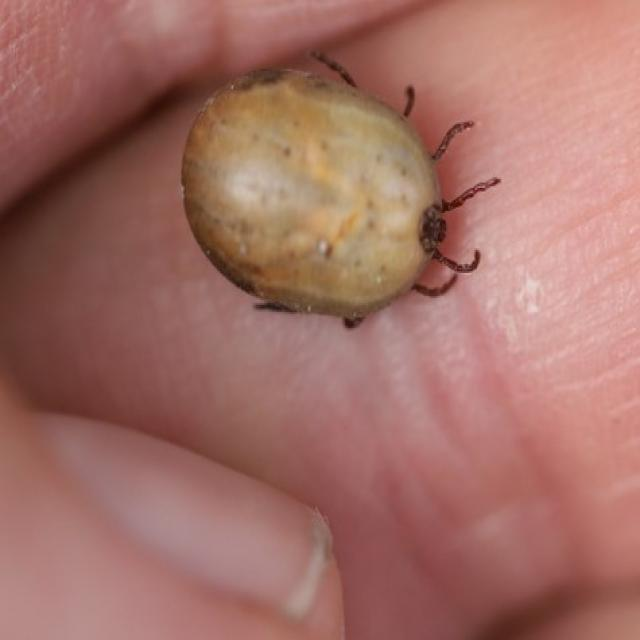Dermacentor Reticulatus-F-Fed: (181, 51, 501, 330)
